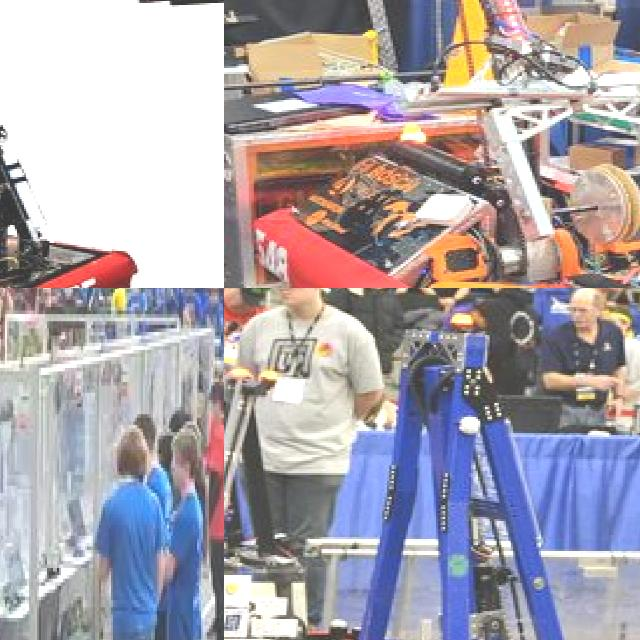FRC-Robots: (224, 317, 640, 640), (226, 0, 640, 288), (0, 0, 224, 288), (224, 350, 379, 640)
